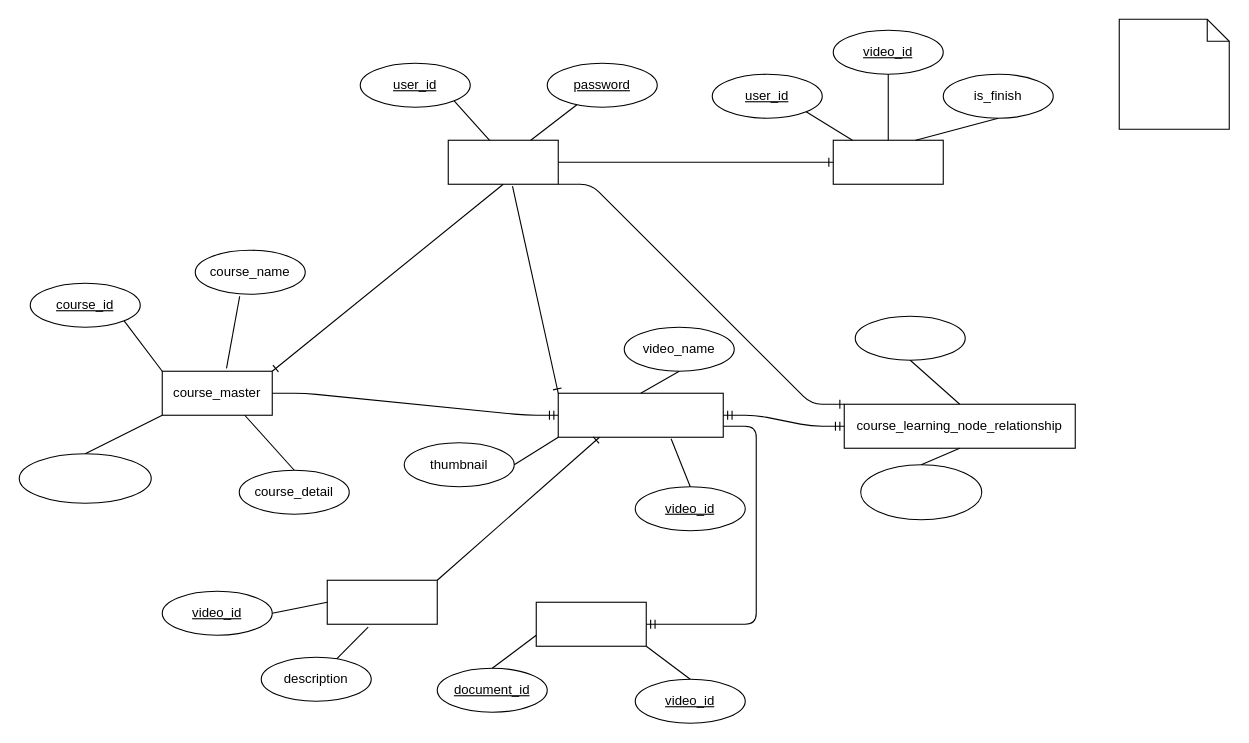
This 1249x743 diagram has some shape labels left out. The shapes that lost their labels are listed below. From the top down, each one's centre as x and y in pixels, then its label:
the point at 1173,73: detail "is_finish" -Studying -> false -finish -> true
the point at 502,161: user
the point at 887,161: user_progress
the point at 909,337: from_video_id
the point at 640,414: course_learning_nodes
the point at 84,478: root_learning_node
the point at 921,492: to_video_id
the point at 381,601: detail
the point at 590,623: file
